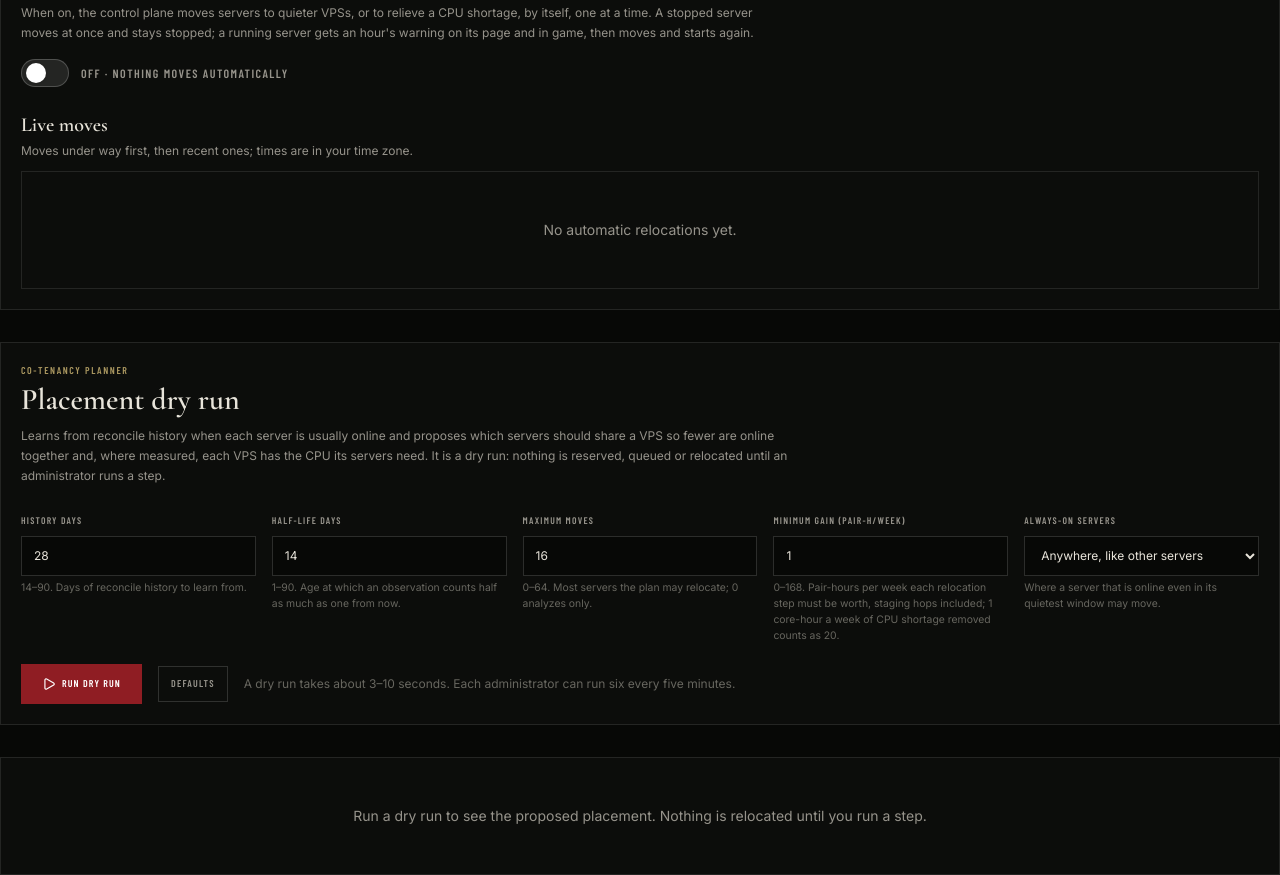
Test: keeps a planned VPS that is full from being submitted
The image size is (1280, 875).
(page scrolled)
What coordinates should you click on to do the following:
click the button "Run dry run"
I would click on:
 (82, 684)
Its box is [21, 664, 142, 704].
(page scrolled)
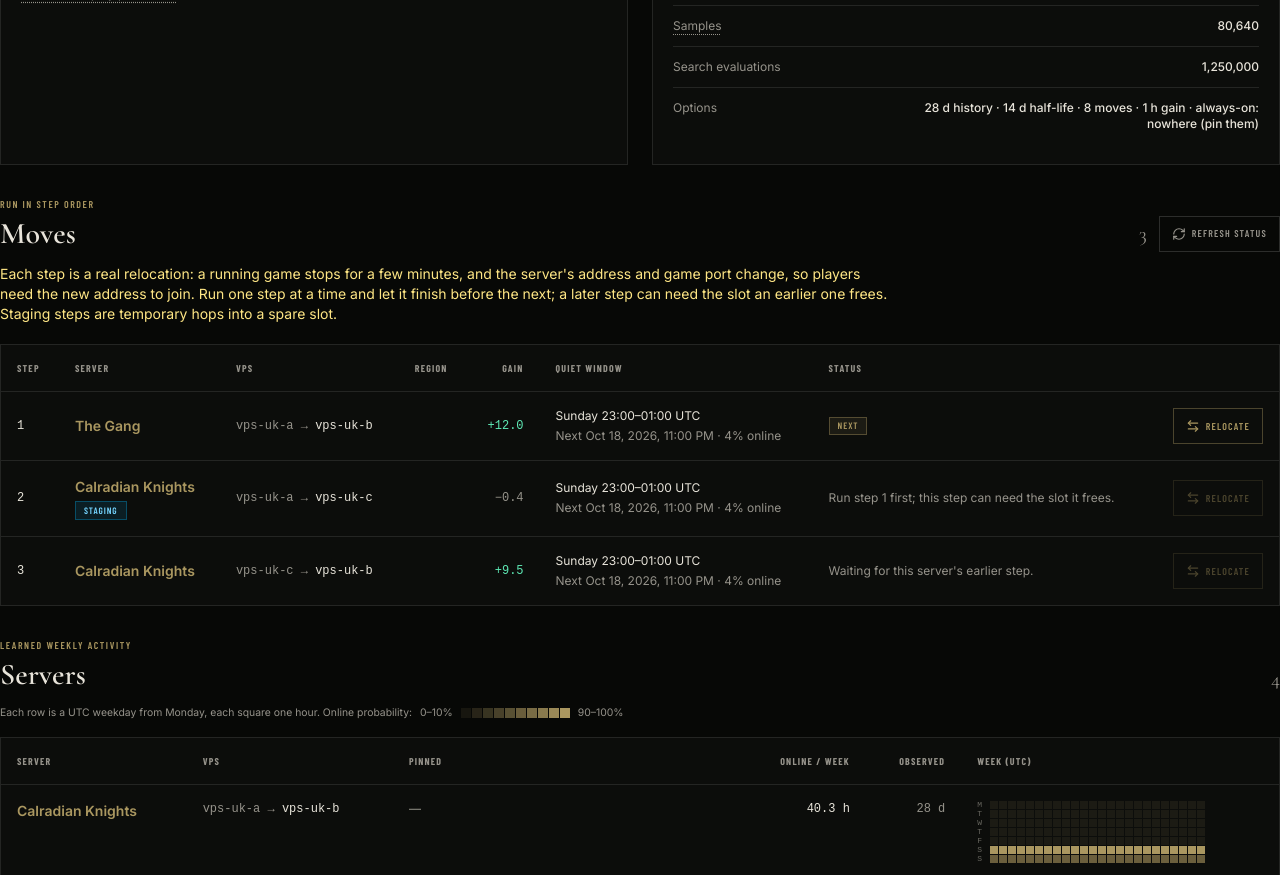
What coordinates should you click on to do the following:
click the button "Relocate" in the row of "+12.0"
I would click on:
 (1218, 426)
Its box is [1173, 408, 1263, 444].
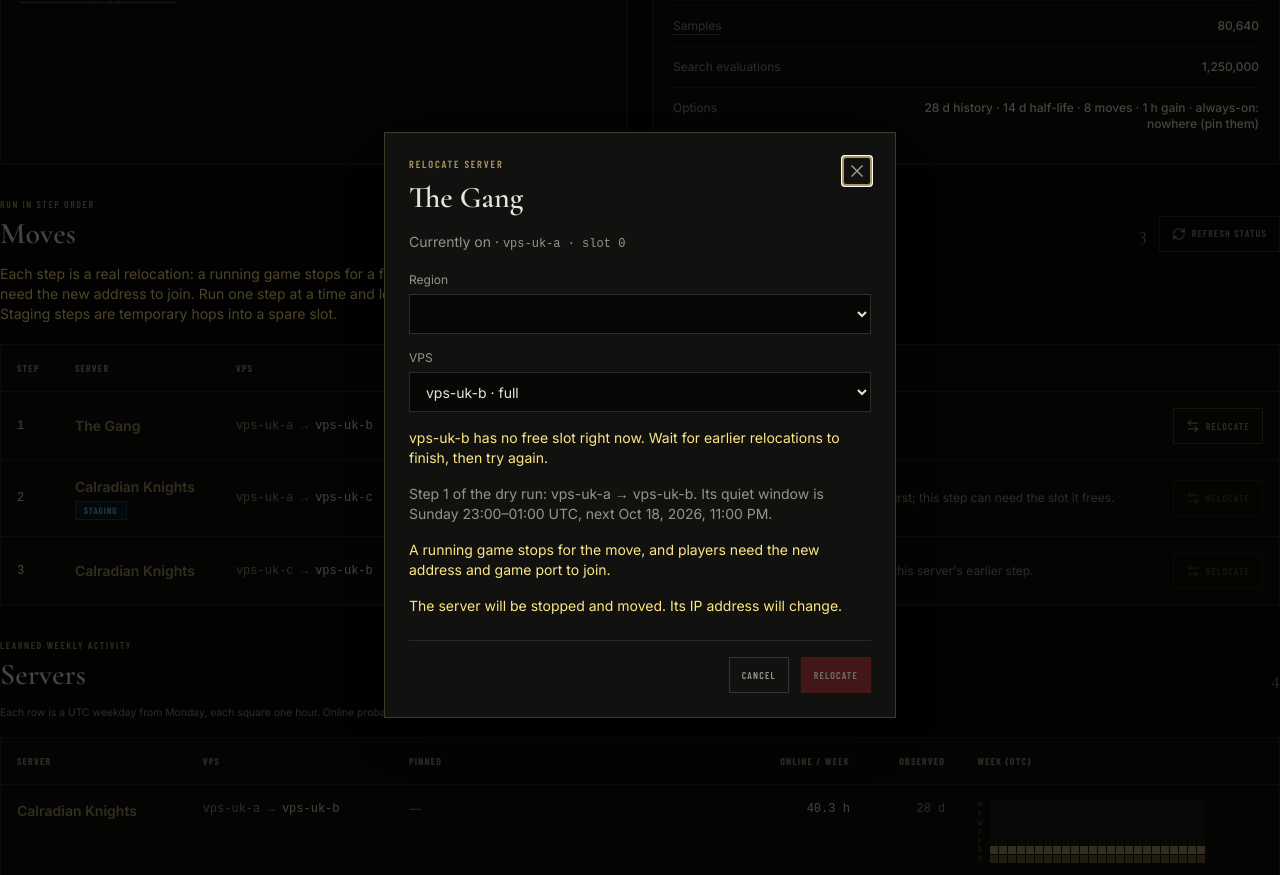
Expected: the dialog shows "vps-uk-b has no free slot right now.", [384, 132, 896, 718]
Expected: the button "Relocate" is disabled, [801, 657, 871, 693]
